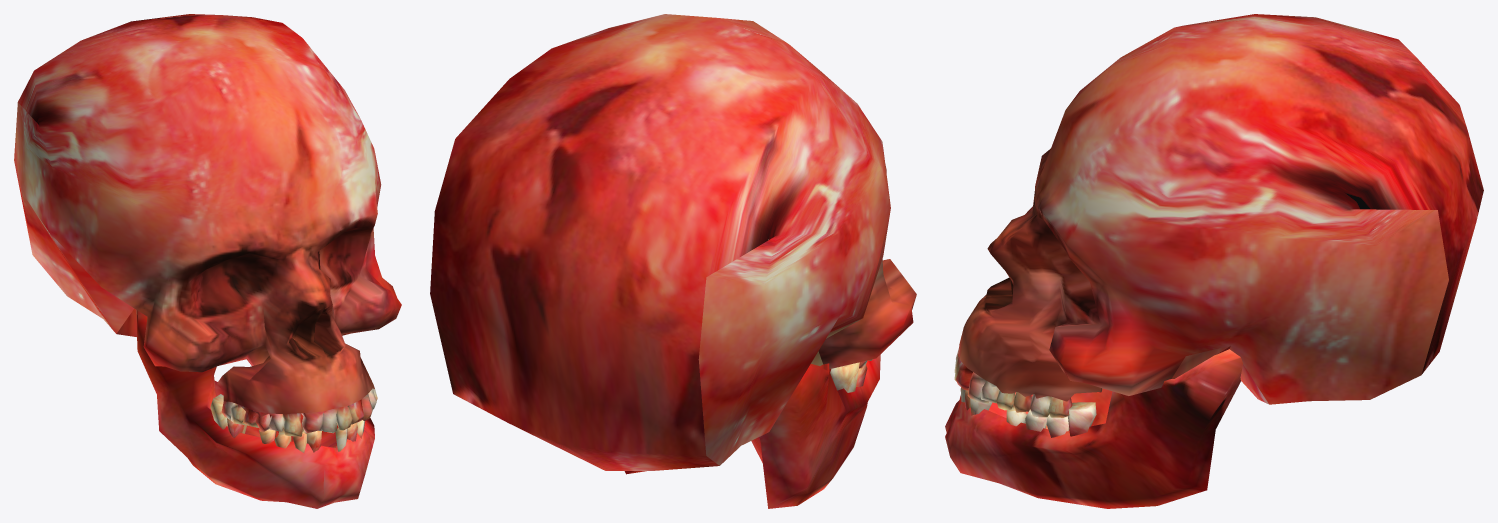
Rendered from male_head_noneck-04.fbx.
3 renders of one model, left to right at view 1: azimuth 30°, elevation 25°; view 2: azimuth 150°, elevation 25°; view 3: azimuth 270°, elevation 25°, orthographic. The views are drawn at different scales.
Parts seen in each view (by area): view 1: head7; view 2: head7; view 3: head7.
Boxes of the visible parts, x1=… form: head7: x1=14, y1=14, x2=401, y2=508; head7: x1=430, y1=14, x2=916, y2=508; head7: x1=945, y1=14, x2=1483, y2=508.
Bounding box in the file's own units: 0.1954 × 0.2469 × 0.2759.
